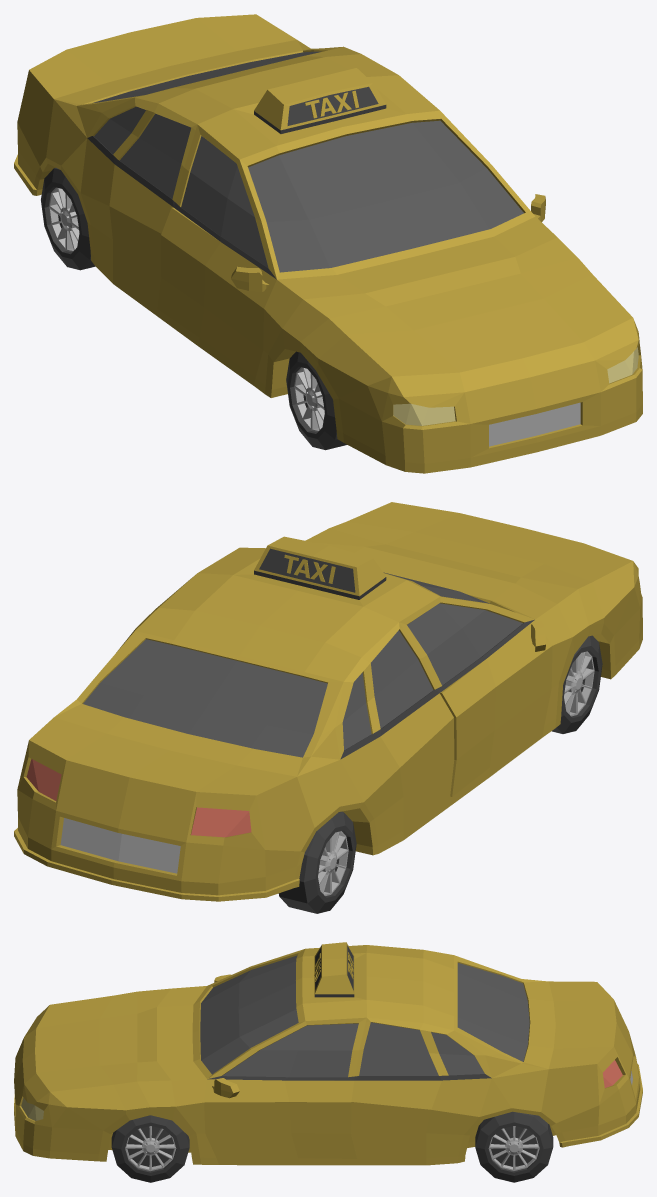
The model's file is Taxi.fbx.
3 renders of one model, top to bottom at view 1: azimuth 30°, elevation 25°; view 2: azimuth 150°, elevation 25°; view 3: azimuth 270°, elevation 25°, orthographic. The views are drawn at different scales.
Visible parts, largest first — view 1: Body, Wheels_Rear, Wheels_Front; view 2: Body, Wheels_Rear, Wheels_Front; view 3: Body, Wheels_Rear, Wheels_Front.
Part boxes in pixels (box(x1,y1,x2,y2)): Body: box(14, 14, 642, 473); Wheels_Rear: box(41, 168, 95, 270); Wheels_Front: box(286, 351, 346, 450); Body: box(14, 502, 642, 901); Wheels_Rear: box(278, 811, 356, 913); Wheels_Front: box(552, 635, 602, 733); Body: box(14, 942, 642, 1165); Wheels_Rear: box(475, 1111, 553, 1182); Wheels_Front: box(111, 1115, 189, 1182).
Bounding box in the file's own units: 1.81 × 1.31 × 4.22.
